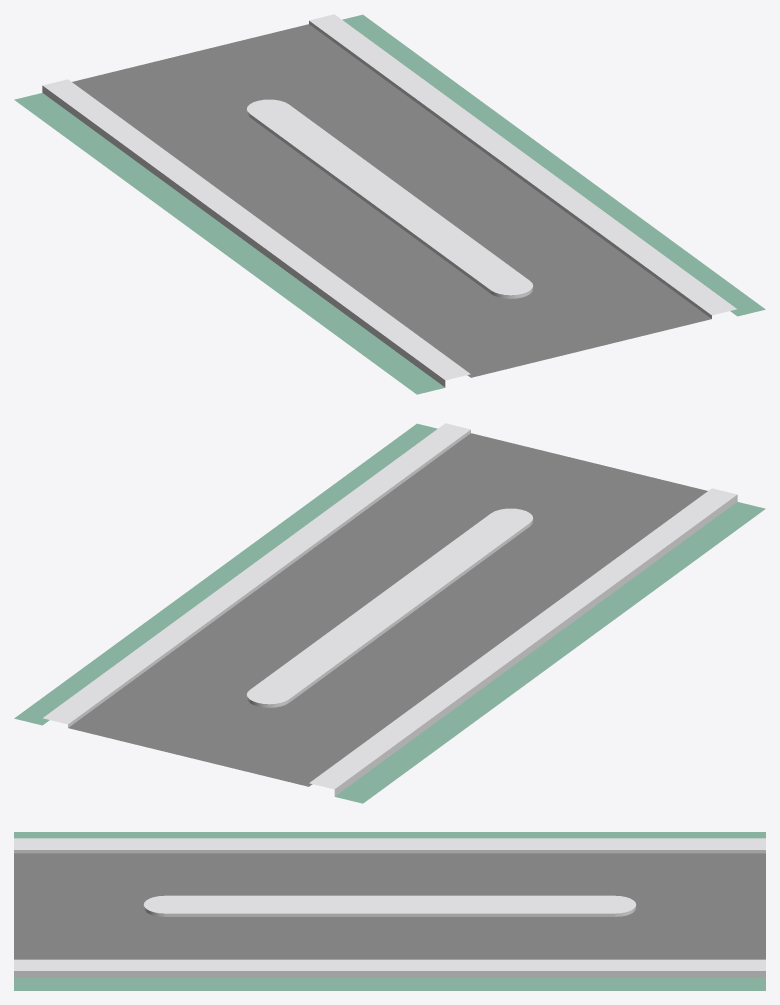
Rendered from roadStraightLongMid.glb.
The picture shows the model from 3 angles, top to bottom: view 1: azimuth 30°, elevation 25°; view 2: azimuth 150°, elevation 25°; view 3: azimuth 270°, elevation 25°; orthographic projection. The views are drawn at different scales.
Parts seen in each view (by area): view 1: roadStraightLongMid(Clone); view 2: roadStraightLongMid(Clone); view 3: roadStraightLongMid(Clone).
Part boxes in pixels (x1,y1,x2,y2): roadStraightLongMid(Clone): (14, 14, 765, 394); roadStraightLongMid(Clone): (14, 423, 765, 803); roadStraightLongMid(Clone): (14, 832, 765, 990).
Bounding box in the file's own units: 1 × 0.02 × 2.
